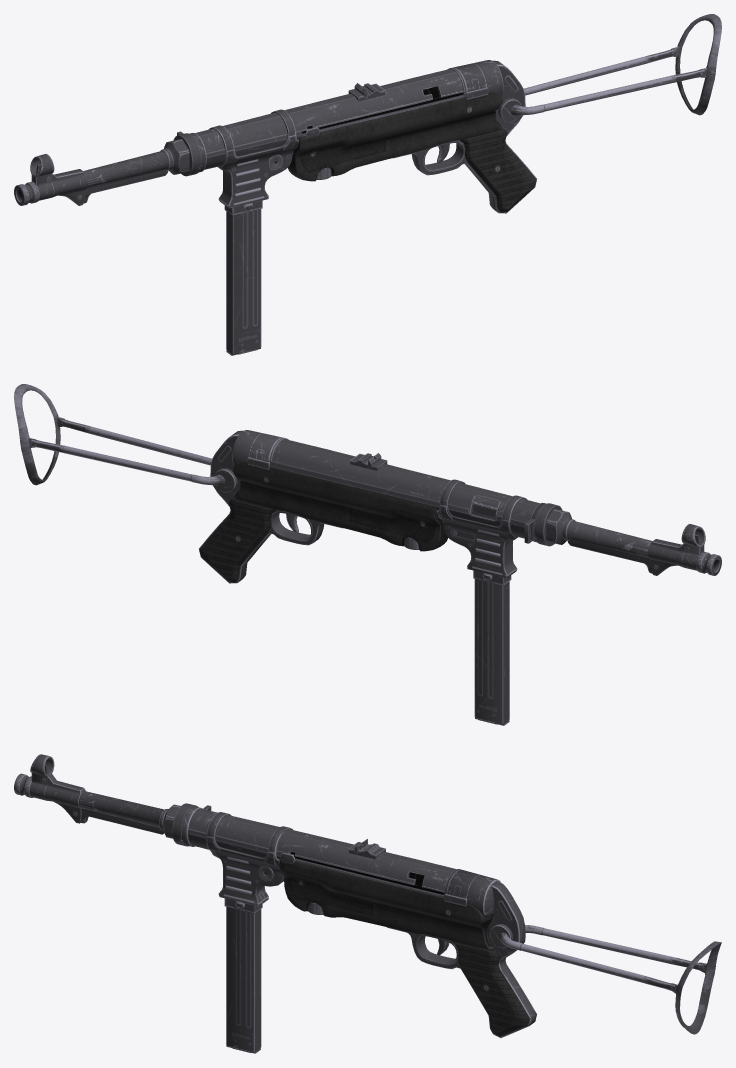
File: gun2.fbx
3 renders of one model, top to bottom at view 1: azimuth 30°, elevation 25°; view 2: azimuth 150°, elevation 25°; view 3: azimuth 330°, elevation 25°, orthographic.
Visible parts, largest first — view 1: MP40; view 2: MP40; view 3: MP40.
Boxes of the visible parts, x1,y1,x2,y2 form: MP40: [14, 14, 721, 355]; MP40: [14, 384, 721, 725]; MP40: [14, 754, 721, 1053].
Bounding box in the file's own units: 400 × 133 × 34.36.
Materials: 1 (1 with a texture image).
